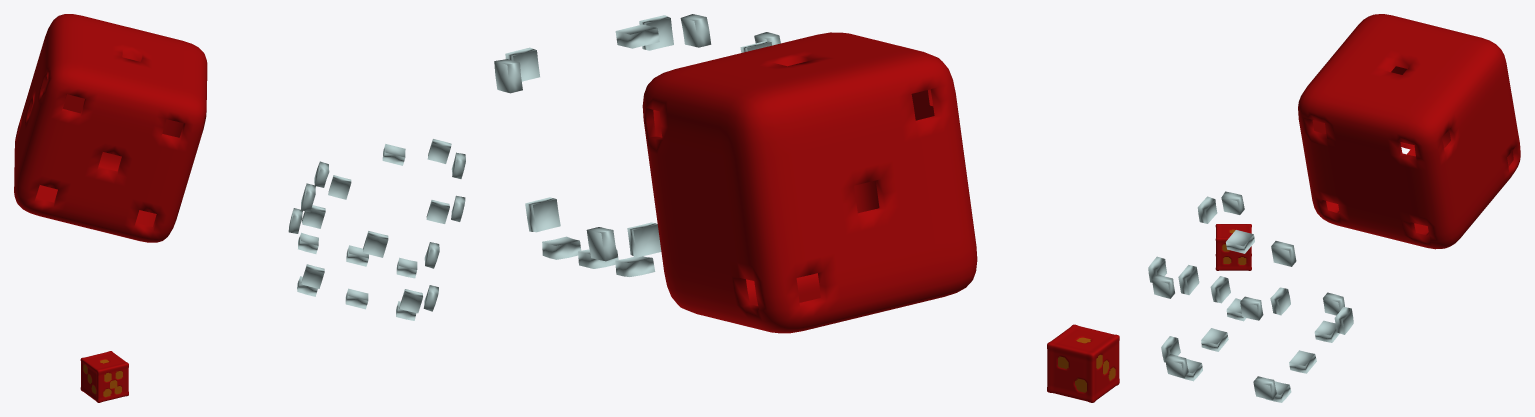
File: cubes.obj
3 views of the same model, side by side, from view 1: azimuth 30°, elevation 25°; view 2: azimuth 150°, elevation 25°; view 3: azimuth 270°, elevation 25° (orthographic). The views are drawn at different scales.
Visible parts, largest first — view 1: dice, dice_numbrs, HazeciKostkaLava_Plane.009; view 2: dice, dice_numbrs, HazeciKostkaLava_Plane.009; view 3: dice, dice_numbrs, HazeciKostkaLava_Plane.009.
Boxes of the visible parts, left/top/right/bottom form: dice: left=14, top=14, right=207, bottom=242; dice_numbrs: left=288, top=139, right=465, bottom=320; HazeciKostkaLava_Plane.009: left=80, top=351, right=128, bottom=402; dice: left=642, top=32, right=977, bottom=333; dice_numbrs: left=494, top=14, right=780, bottom=276; HazeciKostkaLava_Plane.009: left=1047, top=324, right=1119, bottom=402; dice: left=1298, top=14, right=1520, bottom=249; dice_numbrs: left=1148, top=191, right=1353, bottom=402; HazeciKostkaLava_Plane.009: left=1215, top=224, right=1251, bottom=270.
Bounding box in the file's own units: 13.44 × 8.78 × 11.18.
